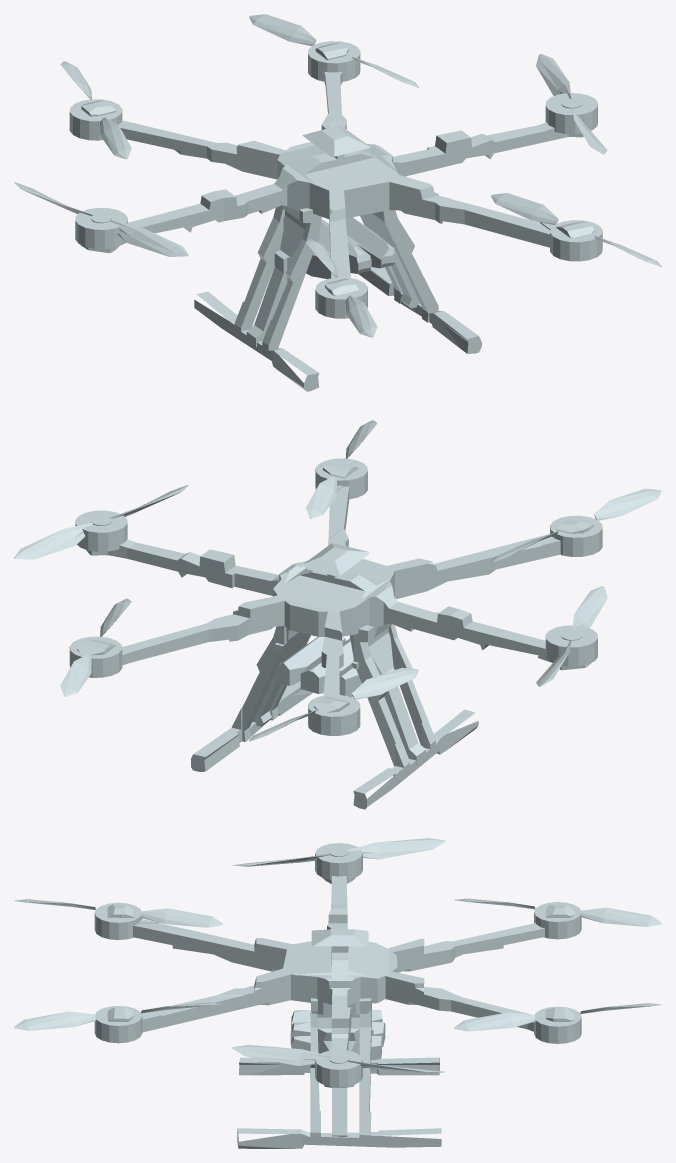
File: VFHC.glb
3 views of the same model, one above another, from view 1: azimuth 30°, elevation 25°; view 2: azimuth 150°, elevation 25°; view 3: azimuth 270°, elevation 25° (orthographic). The views are drawn at different scales.
Parts seen in each view (by area): view 1: Aircraft visual hull, Rotor 1789636945541-bnylgckf4m, Rotor 1789636945541-bnylgckf4m-mirror, Rotor 1789637257895-3datfqs3mai-mirror, Rotor 1789637220610-322xqimip1r-mirror, Rotor 1789637220610-322xqimip1r, Rotor 1789637257895-3datfqs3mai; view 2: Aircraft visual hull, Rotor 1789636945541-bnylgckf4m-mirror, Rotor 1789636945541-bnylgckf4m, Rotor 1789637220610-322xqimip1r, Rotor 1789637257895-3datfqs3mai, Rotor 1789637220610-322xqimip1r-mirror, Rotor 1789637257895-3datfqs3mai-mirror; view 3: Aircraft visual hull, Rotor 1789636945541-bnylgckf4m-mirror, Rotor 1789636945541-bnylgckf4m, Rotor 1789637257895-3datfqs3mai-mirror, Rotor 1789637220610-322xqimip1r-mirror, Rotor 1789637257895-3datfqs3mai, Rotor 1789637220610-322xqimip1r.
Part boxes in pixels (x1,y1,x2,y2): Aircraft visual hull: [81, 42, 594, 391]; Rotor 1789636945541-bnylgckf4m: [14, 182, 188, 256]; Rotor 1789636945541-bnylgckf4m-mirror: [536, 54, 607, 154]; Rotor 1789637257895-3datfqs3mai-mirror: [491, 193, 661, 266]; Rotor 1789637220610-322xqimip1r-mirror: [249, 14, 418, 87]; Rotor 1789637220610-322xqimip1r: [60, 61, 131, 159]; Rotor 1789637257895-3datfqs3mai: [306, 239, 377, 337]; Aircraft visual hull: [77, 461, 594, 809]; Rotor 1789636945541-bnylgckf4m-mirror: [14, 485, 188, 559]; Rotor 1789636945541-bnylgckf4m: [536, 586, 607, 686]; Rotor 1789637220610-322xqimip1r: [249, 667, 419, 741]; Rotor 1789637257895-3datfqs3mai: [491, 488, 661, 562]; Rotor 1789637220610-322xqimip1r-mirror: [60, 598, 131, 696]; Rotor 1789637257895-3datfqs3mai-mirror: [306, 420, 377, 518]; Aircraft visual hull: [107, 876, 574, 1148]; Rotor 1789636945541-bnylgckf4m-mirror: [232, 1044, 445, 1087]; Rotor 1789636945541-bnylgckf4m: [232, 838, 445, 879]; Rotor 1789637257895-3datfqs3mai-mirror: [14, 1002, 222, 1043]; Rotor 1789637220610-322xqimip1r-mirror: [454, 1003, 661, 1043]; Rotor 1789637257895-3datfqs3mai: [14, 899, 222, 939]; Rotor 1789637220610-322xqimip1r: [454, 898, 661, 939].
Bounding box in the file's own units: 0.5812 × 0.2067 × 0.6792.
